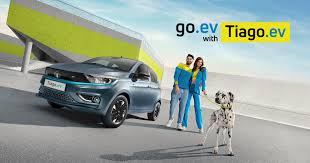Tiago: (32, 55, 163, 128)
